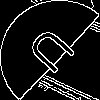U: (25, 25, 85, 83)
